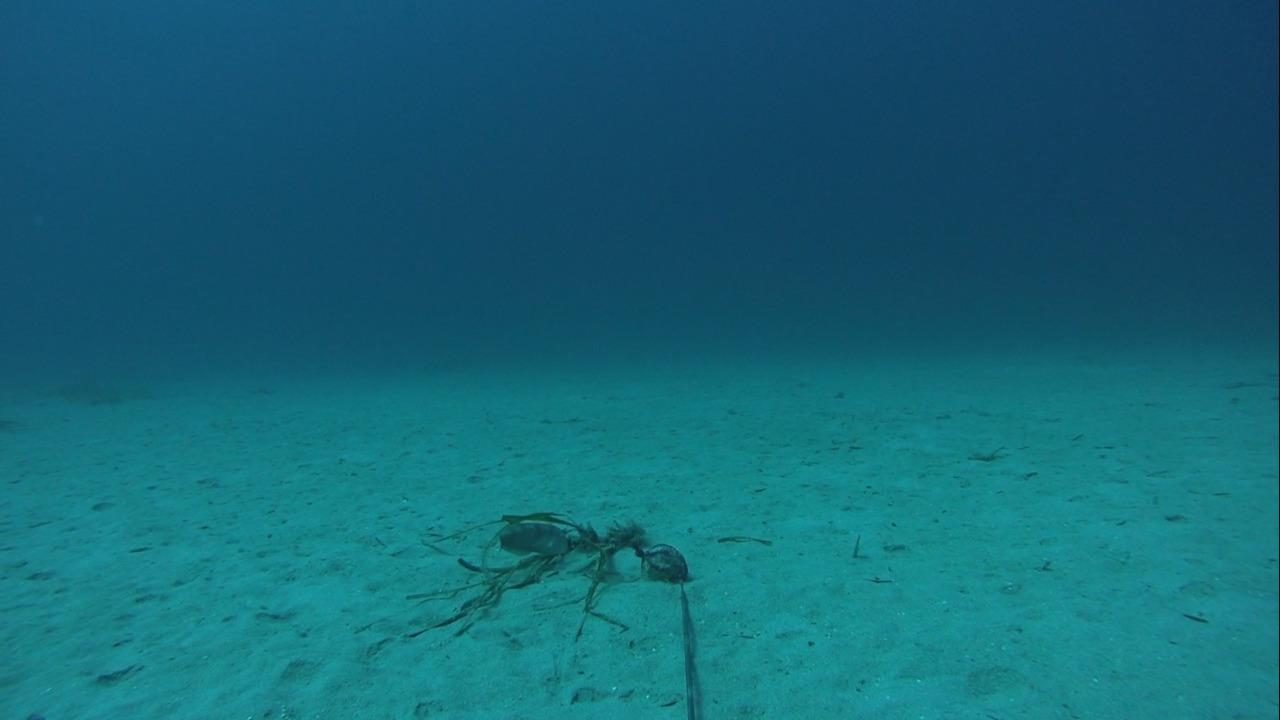raor: (488, 510, 576, 563)
